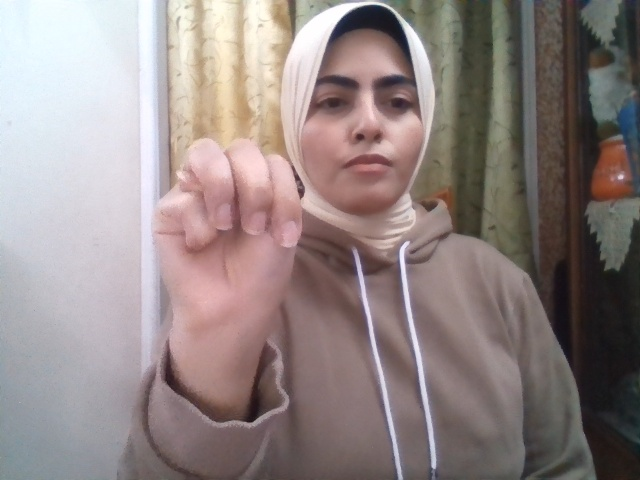M: (152, 139, 303, 334)
